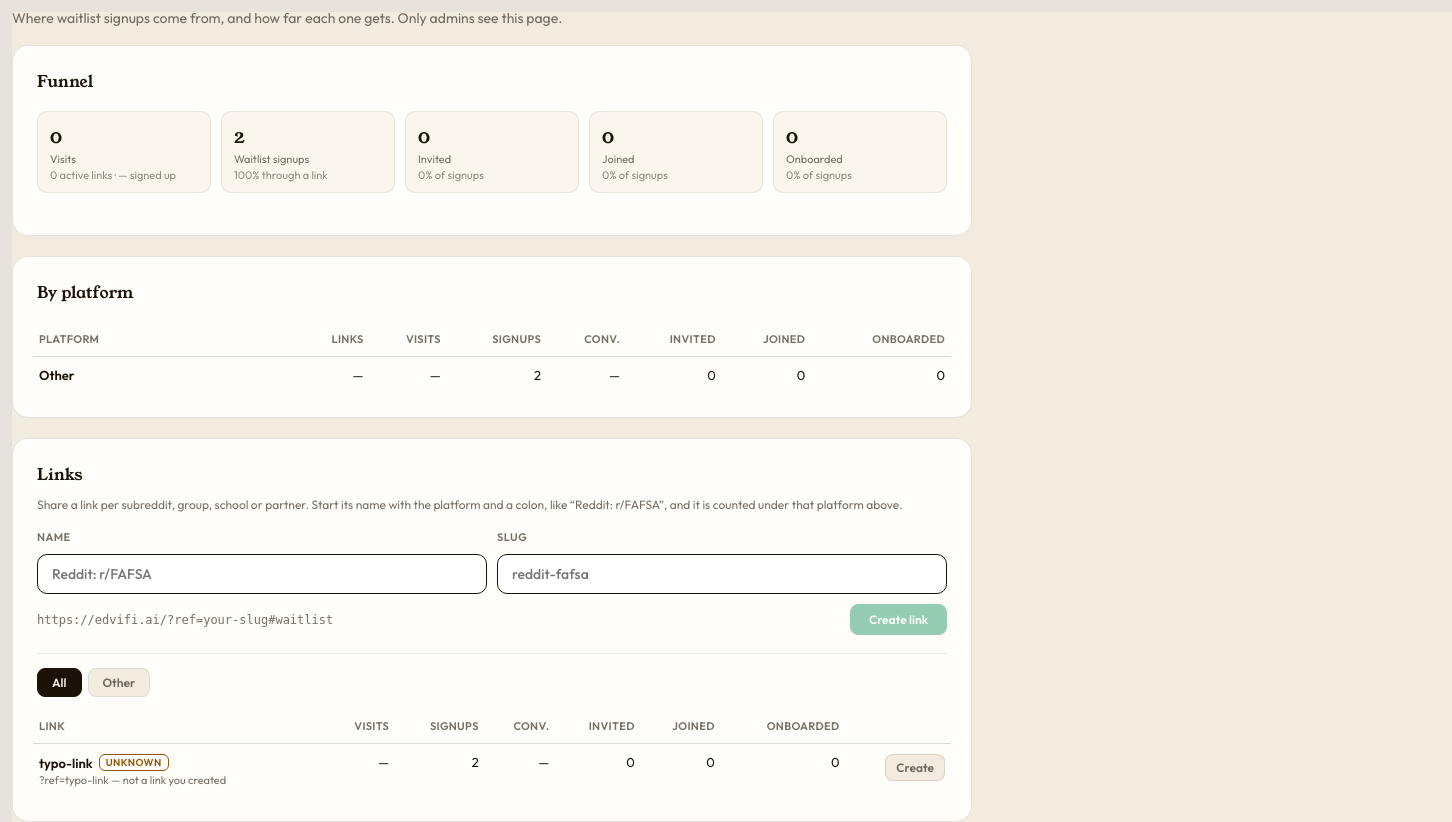
InviteLinksPage › offers to adopt a stray ref as a real link
The image size is (1452, 822).
(page scrolled)
Click the button with aria-label "Create a link for typo-link" at (915, 768), box [885, 754, 945, 781]
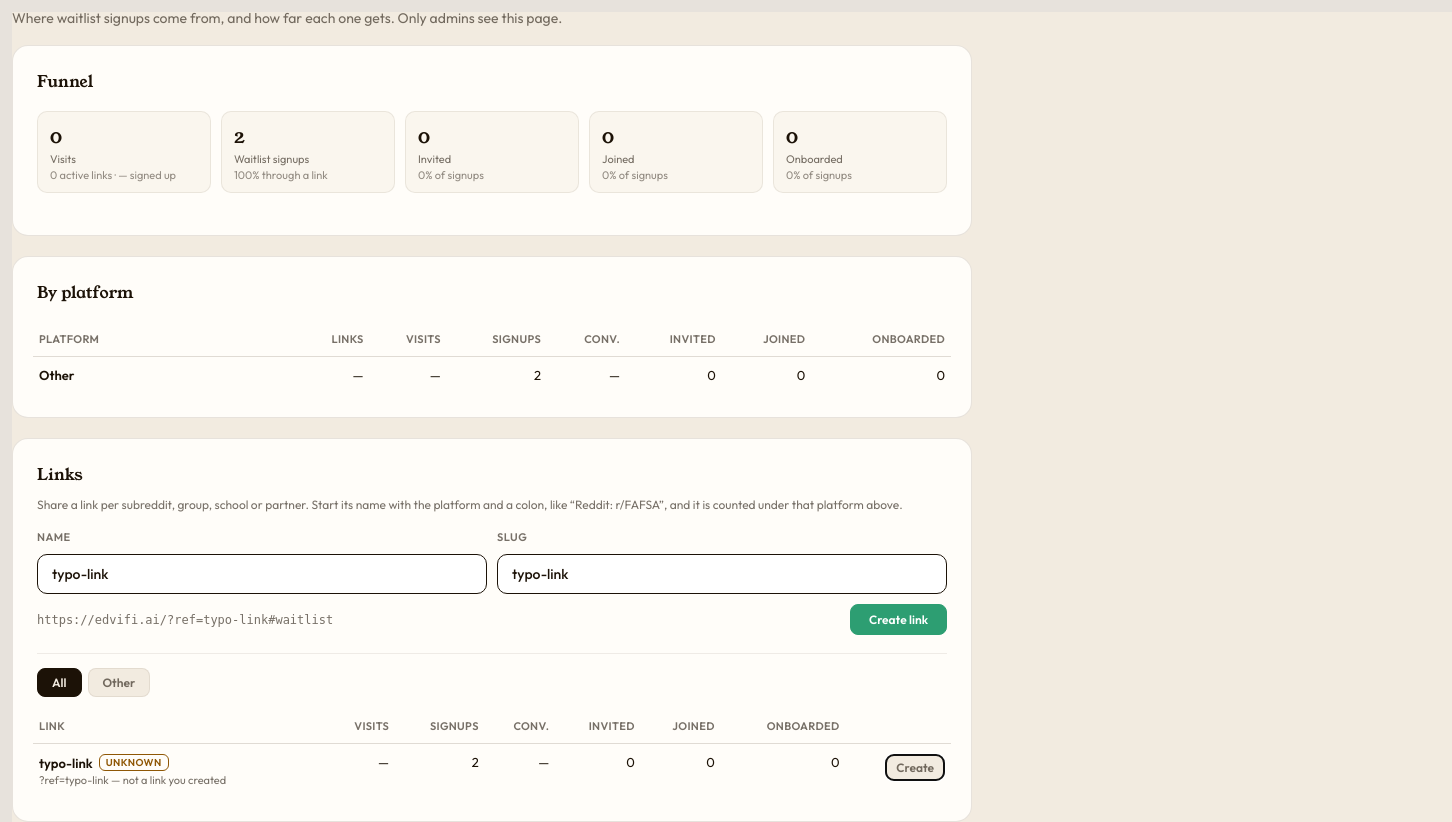
Now the field with placeholder "reddit-fafsa" holds "typo-link", box [497, 554, 947, 594]
